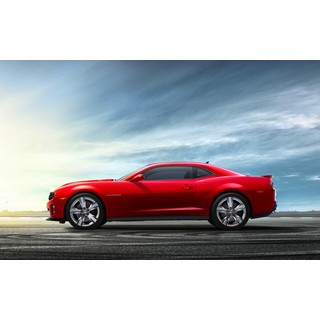car: (43, 161, 282, 231)
